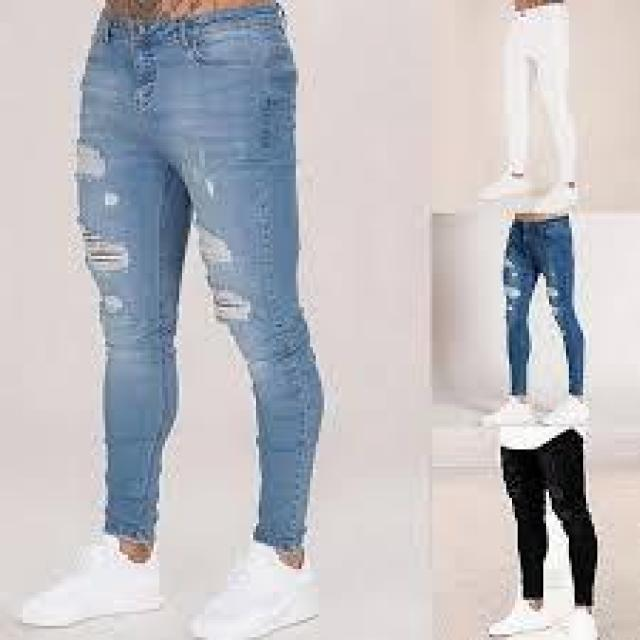pants: (74, 17, 321, 555), (498, 439, 600, 602), (497, 218, 588, 394), (494, 7, 582, 186)
